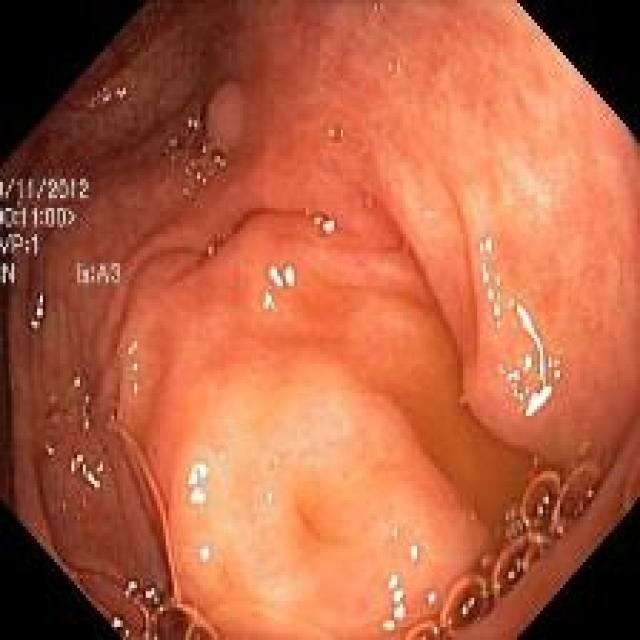Polyps: (204, 81, 244, 154)
